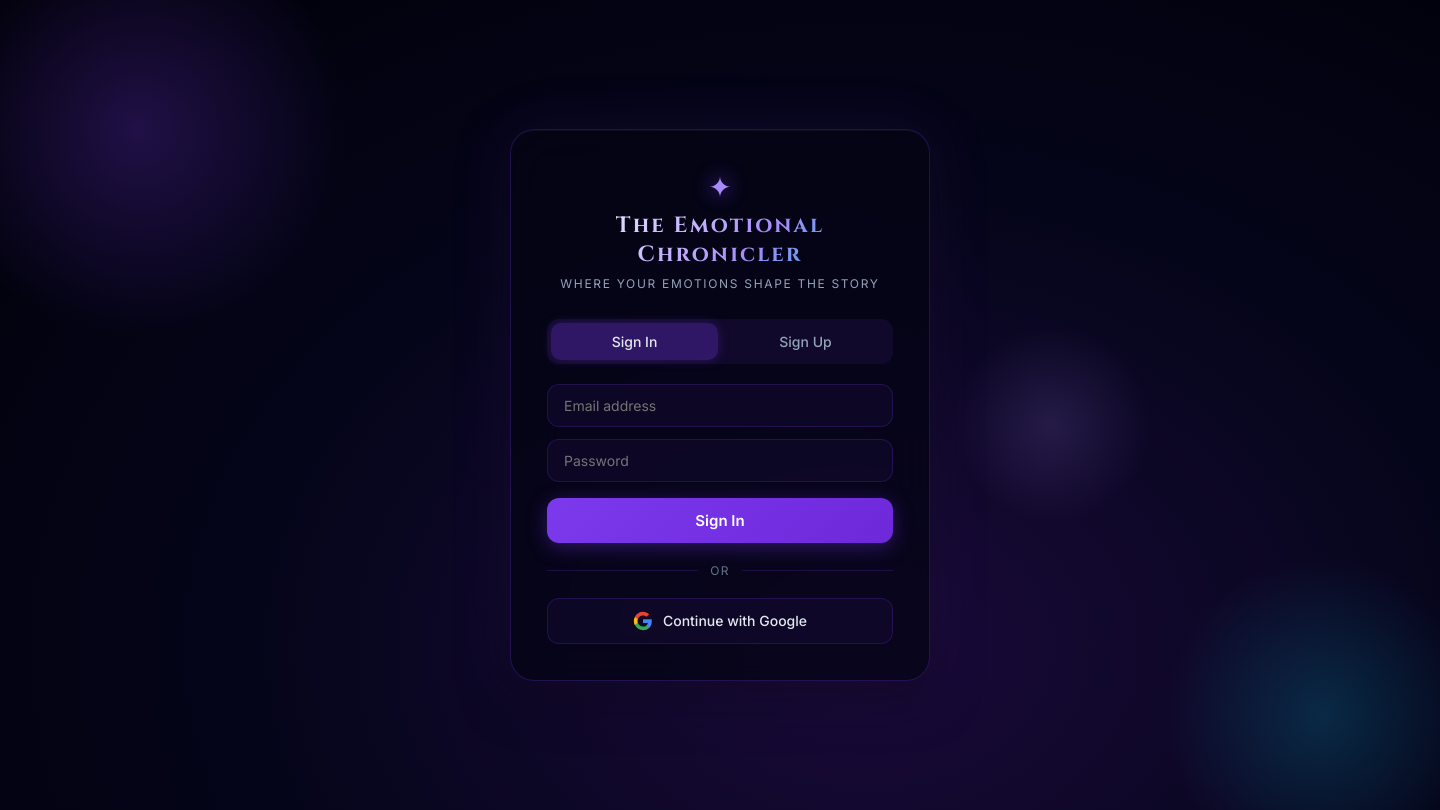
Test case: AuthScreen › sign-in form submission › should show error message on sign-in failure
The width and height of the screenshot is (1440, 810).
In the field with placeholder "Email address": (720, 405) [547,384,893,427], type "user@test.com"
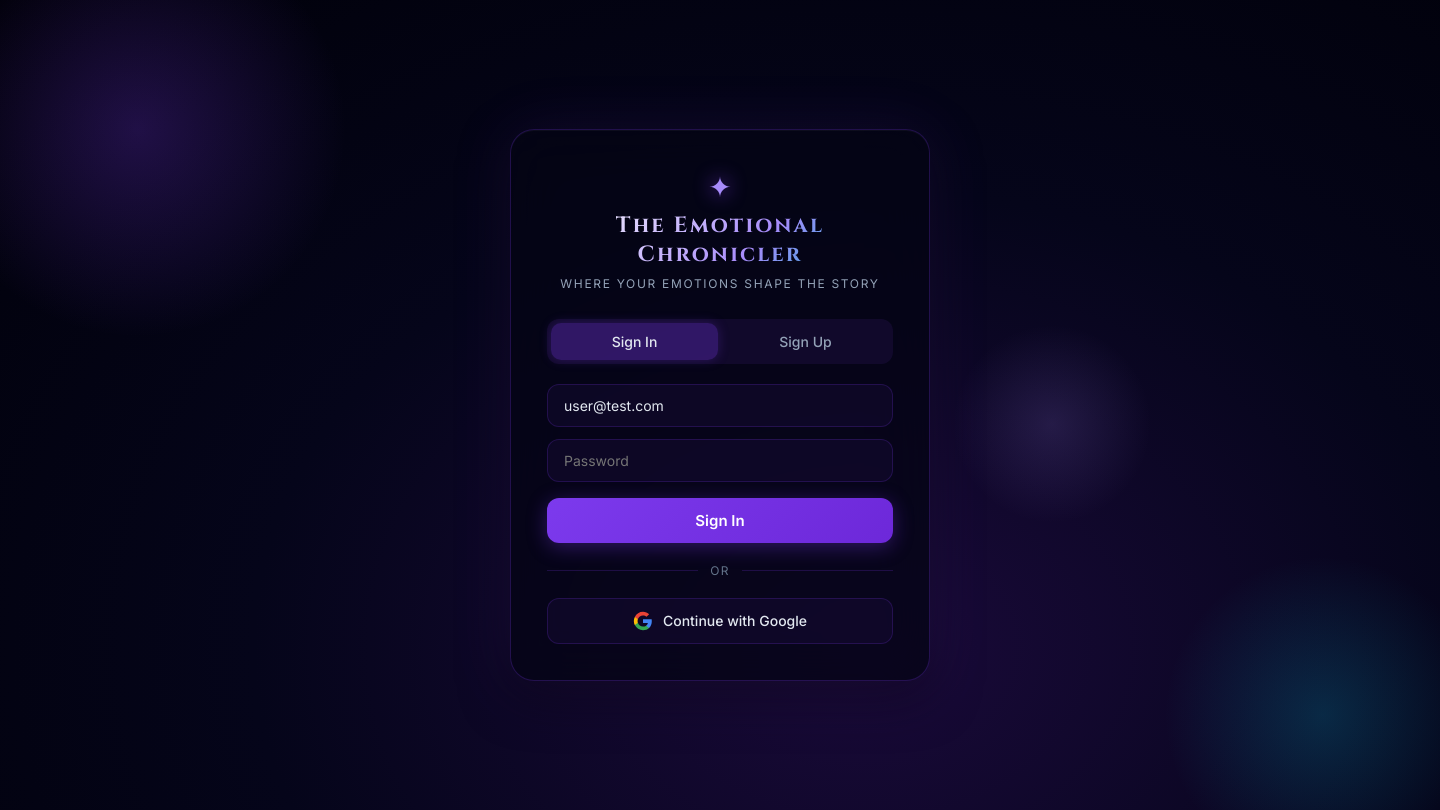
In the password field with placeholder "Password": (720, 460) [547,439,893,482], type "wrong"
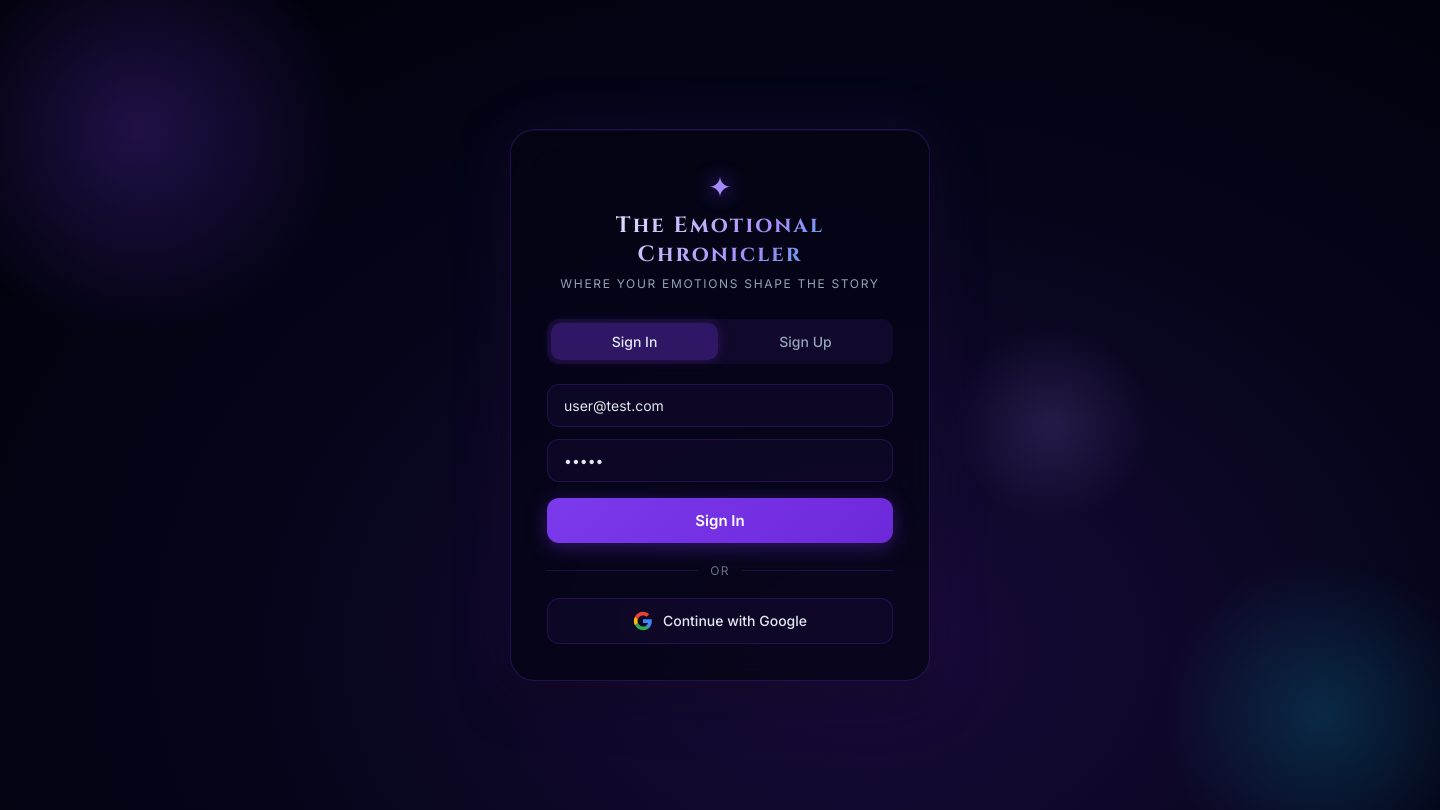
Click the 2nd button "Sign In": (720, 520) [547,498,893,543]
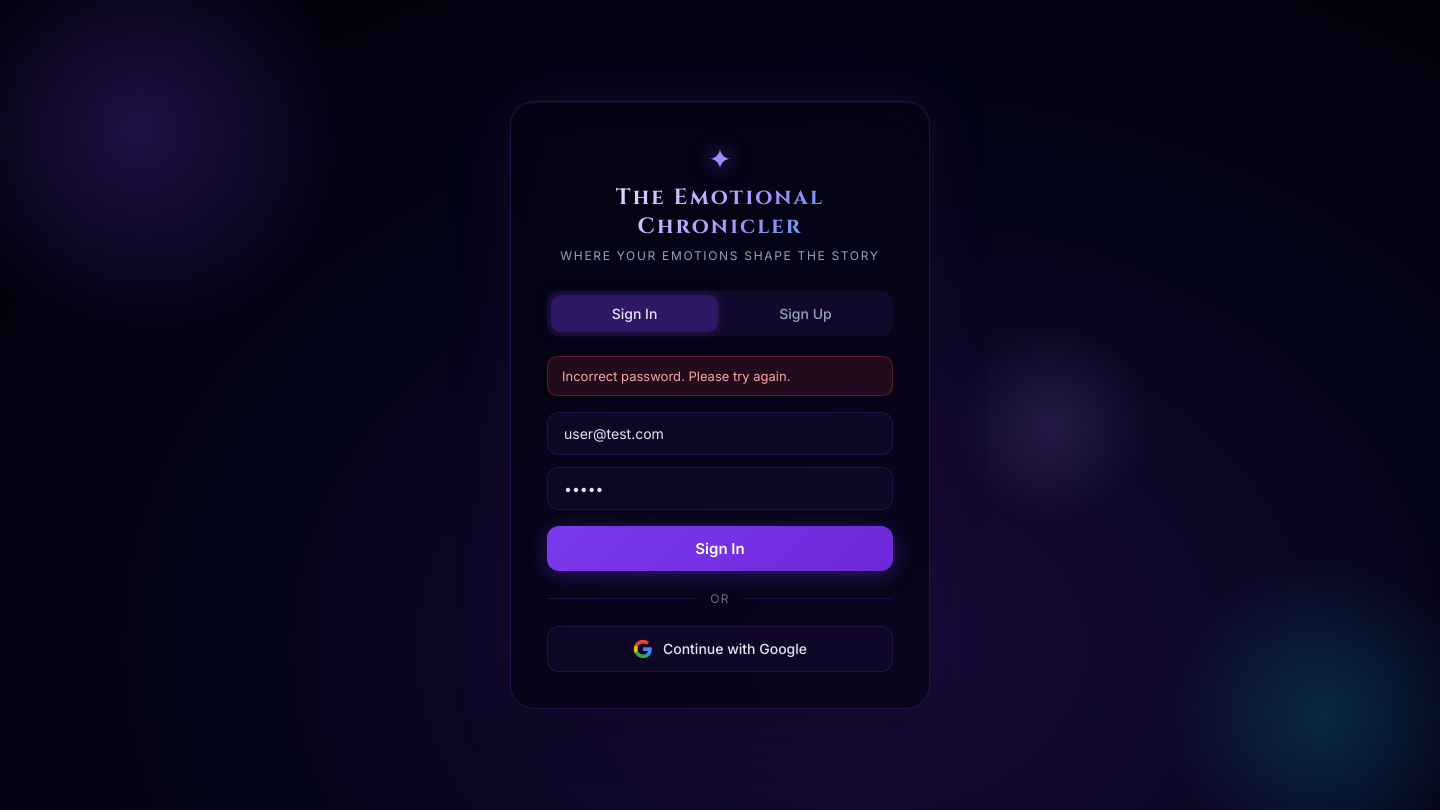
Check: the text "Incorrect password. Please try again." is shown, box [547,356,893,396]
